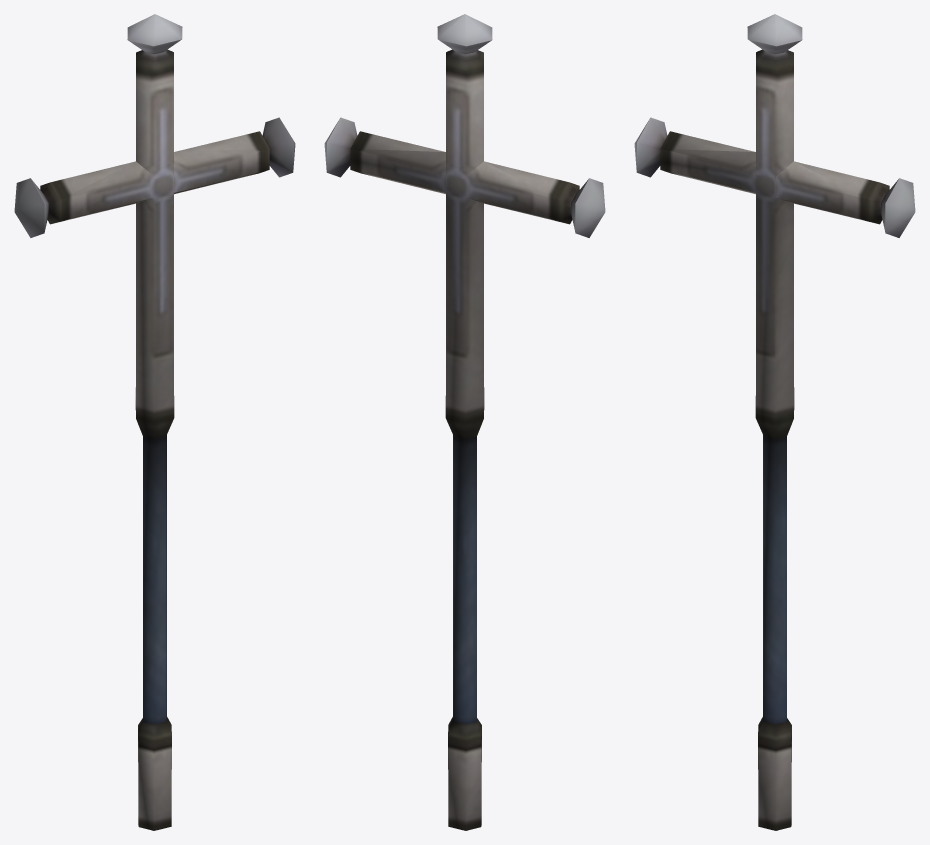
File: partisanLance.glb
The picture shows the model from 3 angles, left to right: view 1: azimuth 30°, elevation 25°; view 2: azimuth 150°, elevation 25°; view 3: azimuth 330°, elevation 25°; orthographic projection.
Visible parts, largest first — view 1: partisanLance; view 2: partisanLance; view 3: partisanLance.
Boxes of the visible parts, x1,y1,x2,y2 form: partisanLance: (14, 14, 295, 830); partisanLance: (324, 14, 605, 830); partisanLance: (634, 14, 915, 830).
Bounding box in the file's own units: 0.9536 × 2.64 × 0.1634.
1 material, 1 textured.
